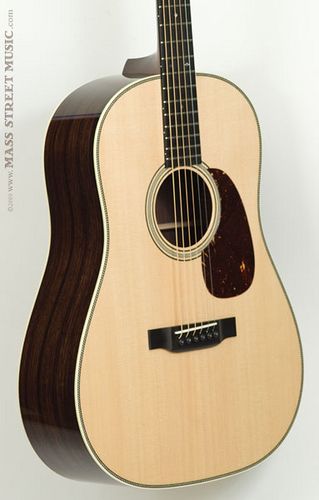guitar: (16, 1, 306, 491)
